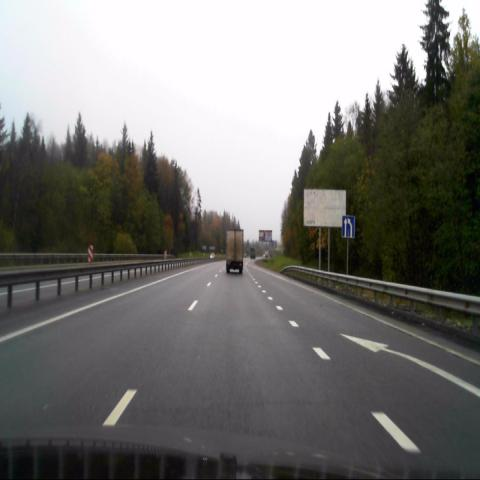5_15_5: (342, 215, 354, 239)
